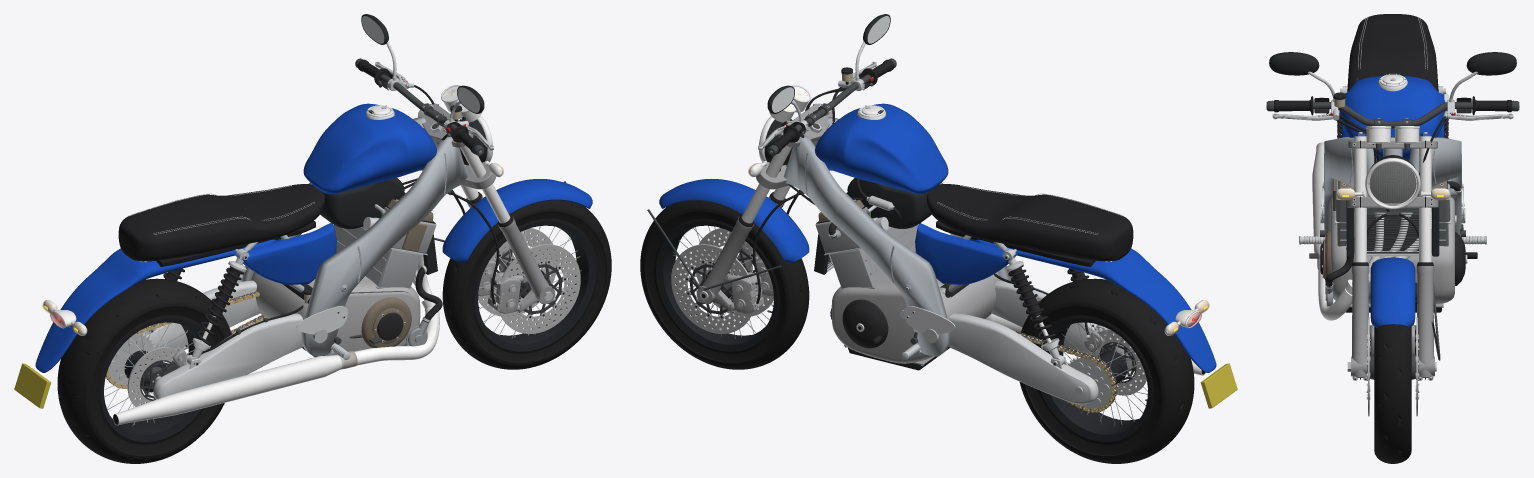
Rendered from kazeda_classic.glb.
3 renders of one model, left to right at view 1: azimuth 30°, elevation 25°; view 2: azimuth 150°, elevation 25°; view 3: azimuth 270°, elevation 25°, orthographic. The views are drawn at different scales.
Visible parts, largest first — view 1: kazeda_classic; view 2: kazeda_classic; view 3: kazeda_classic.
Boxes of the visible parts, x1=… form: kazeda_classic: x1=14, y1=14, x2=611, y2=463; kazeda_classic: x1=640, y1=14, x2=1237, y2=463; kazeda_classic: x1=1266, y1=14, x2=1519, y2=463.
Size of the model in its own units: 2.25 by 1.25 by 0.8198.
